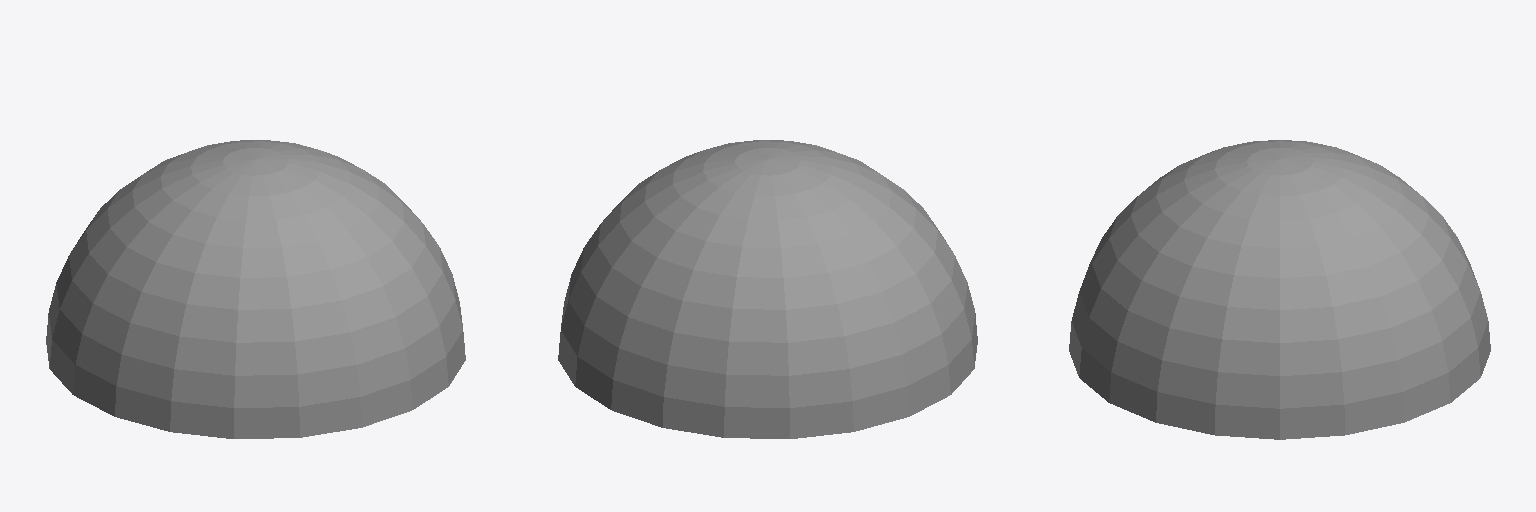
The model's file is Pkmn_Arena_withSky.obj.
3 views of the same model, side by side, from view 1: azimuth 30°, elevation 25°; view 2: azimuth 150°, elevation 25°; view 3: azimuth 270°, elevation 25° (orthographic).
Visible parts, largest first — view 1: sky; view 2: sky; view 3: sky.
Boxes of the visible parts, x1=… form: sky: x1=46, y1=140, x2=465, y2=438; sky: x1=558, y1=140, x2=977, y2=438; sky: x1=1069, y1=140, x2=1490, y2=439.
Size of the model in its own units: 41.48 by 20.95 by 41.48.